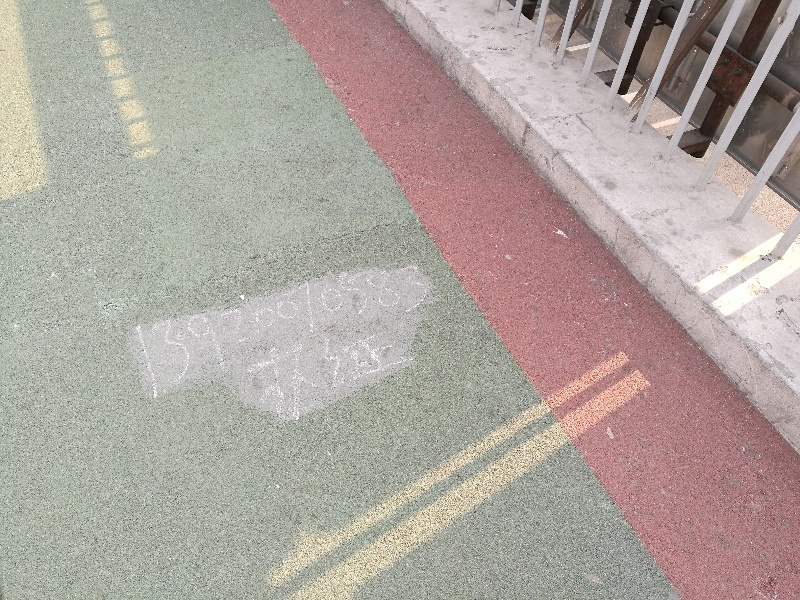text: (145, 246, 160, 403), (161, 246, 176, 403), (177, 246, 192, 403), (193, 246, 208, 403), (209, 246, 224, 403), (225, 246, 240, 403), (241, 246, 256, 403), (257, 246, 272, 403), (273, 246, 288, 403), (289, 246, 304, 403), (305, 246, 320, 403), (321, 246, 336, 403), (337, 246, 352, 403), (353, 246, 368, 403), (369, 246, 384, 403), (385, 246, 400, 403), (401, 246, 416, 403), (417, 246, 432, 403), (130, 246, 144, 403), (257, 304, 272, 431), (273, 304, 288, 431), (289, 304, 304, 431), (305, 304, 320, 431), (321, 304, 336, 431), (337, 304, 352, 431), (353, 304, 368, 431), (369, 304, 384, 431), (385, 304, 400, 431), (401, 304, 416, 431), (244, 304, 256, 431), (433, 246, 438, 403), (417, 304, 418, 431)
